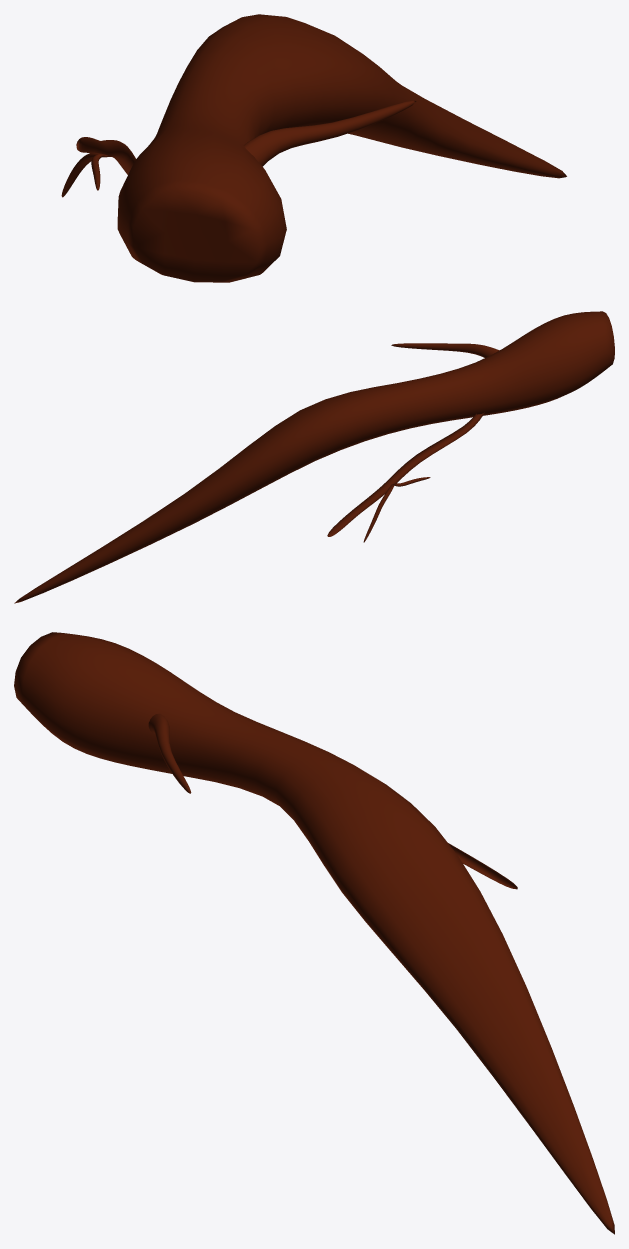
File: branch-on-tree.obj
The picture shows the model from 3 angles, top to bottom: view 1: azimuth 30°, elevation 25°; view 2: azimuth 150°, elevation 25°; view 3: azimuth 270°, elevation 25°; orthographic projection. The views are drawn at different scales.
Parts seen in each view (by area): view 1: BigTree.002_Cube.830; view 2: BigTree.002_Cube.830; view 3: BigTree.002_Cube.830.
Part boxes in pixels (<box>): BigTree.002_Cube.830: <box>61,14,566,282</box>; BigTree.002_Cube.830: <box>14,311,614,603</box>; BigTree.002_Cube.830: <box>14,632,614,1234</box>.
Bounding box in the file's own units: 2.47 × 1.37 × 2.23.
